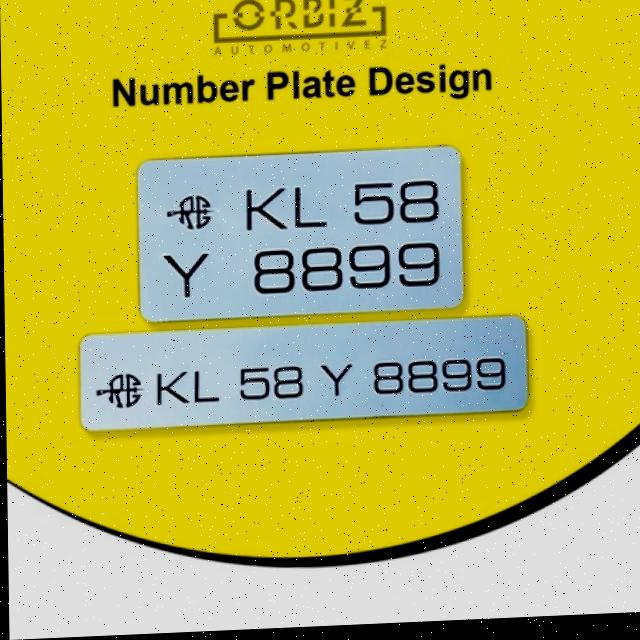plate: (136, 147, 463, 324), (76, 321, 531, 431)
